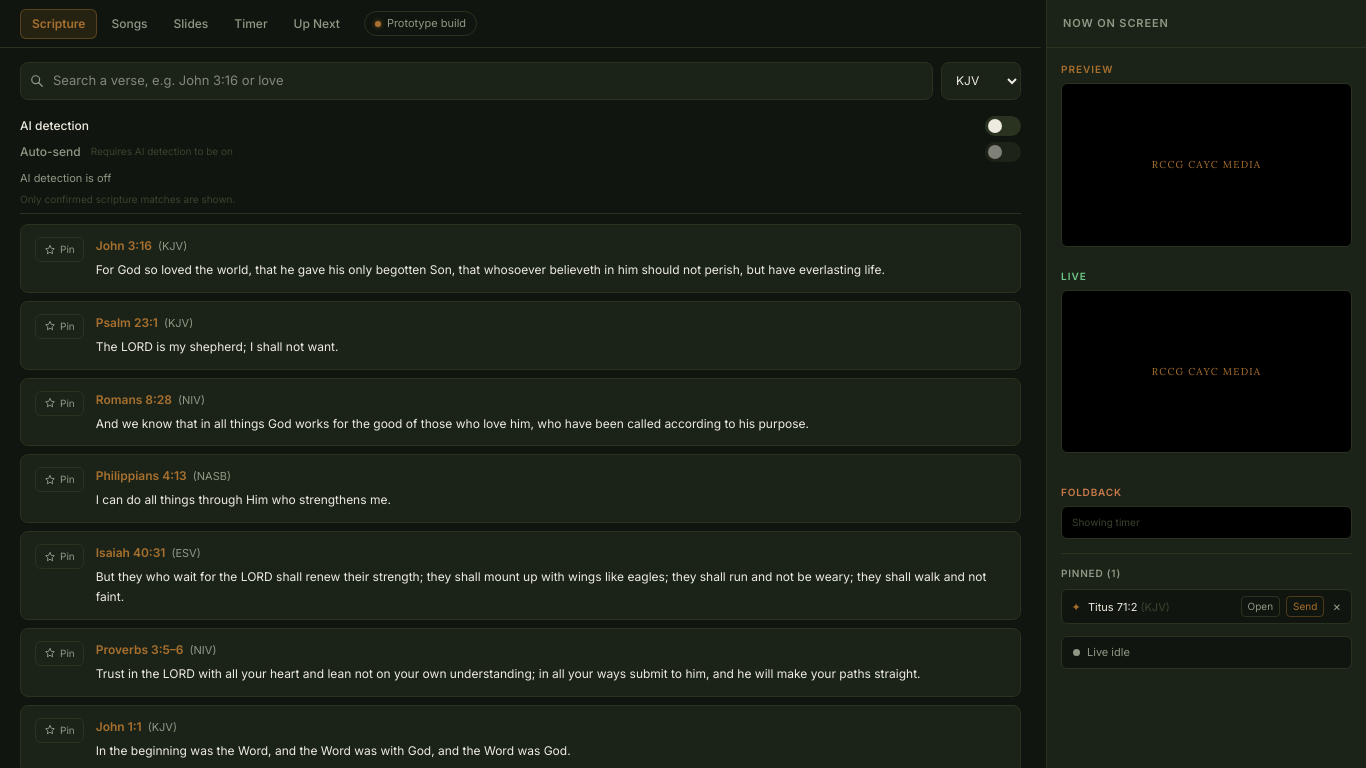
it: End-to-end migration (Section 29): legacy pin -> repository load -> migration -> Open -> correct passage › a legacy pin saved in raw storage, loaded through the real repository, migrated, and opened in the real OperatorScreen resolves to the correct passage
The image size is (1366, 768).
Step 1. Click the button "Open" → (1260, 607), box [1241,596,1280,617]
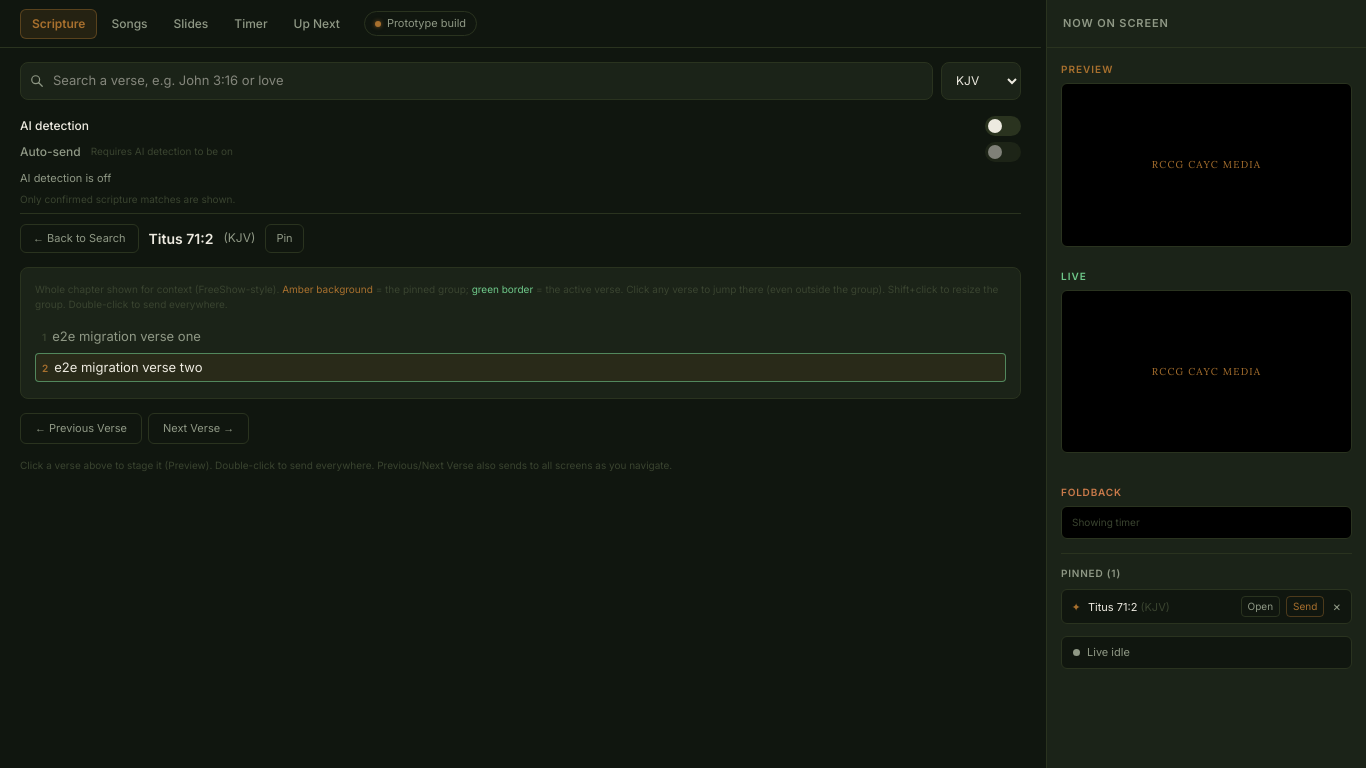
Result: the button "← Back to Search" is shown at [20,224,139,252]
Result: the text "e2e migration verse two" is shown at [54,359,202,375]
